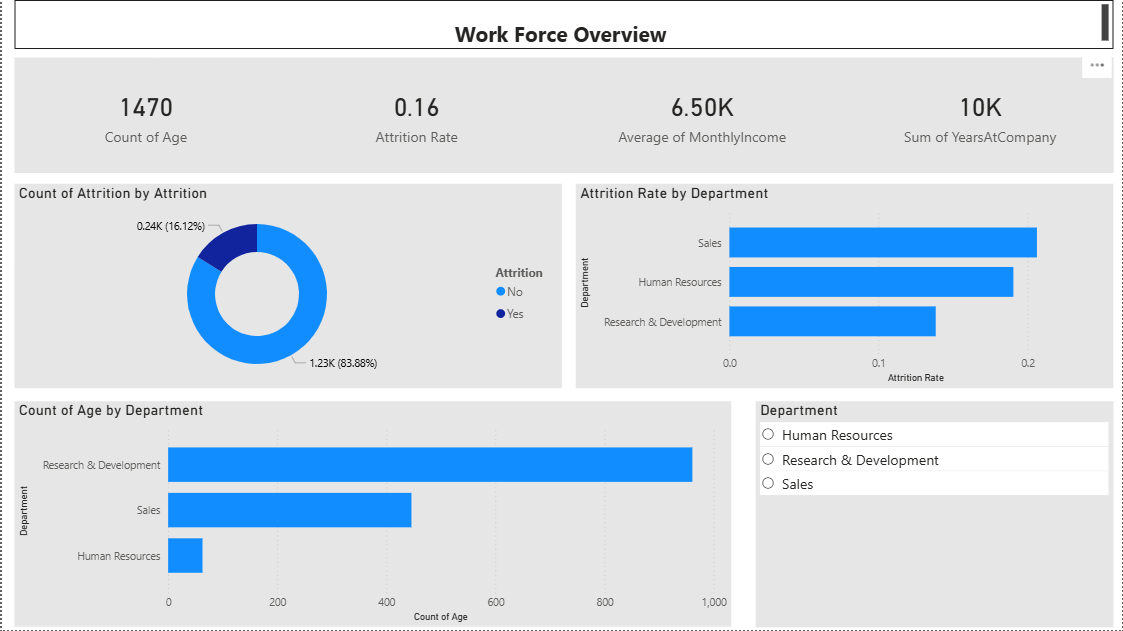

What the dashboard file says about the page in this screenshot:
{"tool":"powerbi","page":{"name":"Page 1","canvas":[1280,720],"ordinal":0},"visuals":[{"type":"card","fields":{"Values":["CountNonNull(hr_scored.Age)"]},"box":[13.7,65.9,300.5,131.7],"z":0},{"type":"card","fields":{"Values":["hr_scored.Attrition Rate"]},"box":[314.2,65.9,319.7,131.7],"z":1000},{"type":"card","fields":{"Values":["Avg(hr_scored.MonthlyIncome)"]},"box":[634,65.9,332.1,131.7],"z":2000},{"type":"card","fields":{"Values":["Sum(hr_scored.YearsAtCompany)"]},"box":[966,65.9,304.6,131.7],"z":3000},{"type":"donutChart","fields":{"Category":["hr_scored.Attrition"],"Y":["CountNonNull(hr_scored.Attrition)"]},"box":[13.7,209.9,625.7,233.3],"z":4000},{"type":"clusteredBarChart","fields":{"Category":["hr_scored.Department"],"Y":["CountNonNull(hr_scored.Age)"]},"box":[13.7,458.3,819.2,258],"z":5000},{"type":"clusteredBarChart","fields":{"Category":["hr_scored.Department"],"Y":["hr_scored.Attrition Rate"]},"box":[655.9,209.9,614.8,233.3],"z":6000},{"type":"listSlicer","fields":{"Values":["hr_scored.Department"]},"box":[861.4,458.6,408.6,258.6],"z":7000},{"type":"textbox","box":[13.7,0,1257,56.3],"z":8000}]}

Visuals, with their boxes in screenshot pixels (x1, y1, x2, y2), scaled from the page's 1280x720 canvas onto the 1123x631 screenshot:
card - CountNonNull(hr_scored.Age): box=[12, 58, 276, 173]
card - hr_scored.Attrition Rate: box=[276, 58, 556, 173]
card - Avg(hr_scored.MonthlyIncome): box=[556, 58, 848, 173]
card - Sum(hr_scored.YearsAtCompany): box=[848, 58, 1115, 173]
donutChart - hr_scored.Attrition x CountNonNull(hr_scored.Attrition): box=[12, 184, 561, 388]
clusteredBarChart - hr_scored.Department x CountNonNull(hr_scored.Age): box=[12, 402, 731, 628]
clusteredBarChart - hr_scored.Department x hr_scored.Attrition Rate: box=[575, 184, 1115, 388]
listSlicer - hr_scored.Department: box=[756, 402, 1114, 629]
textbox: box=[12, 0, 1115, 49]
